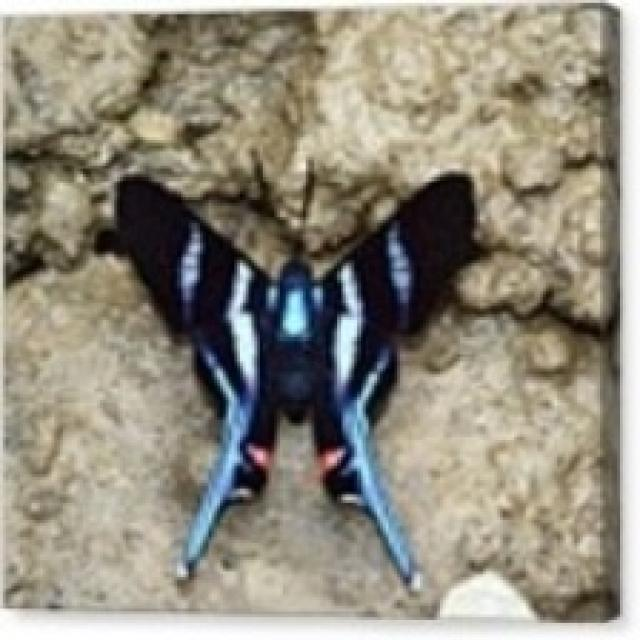butterfly: (91, 163, 486, 594)
